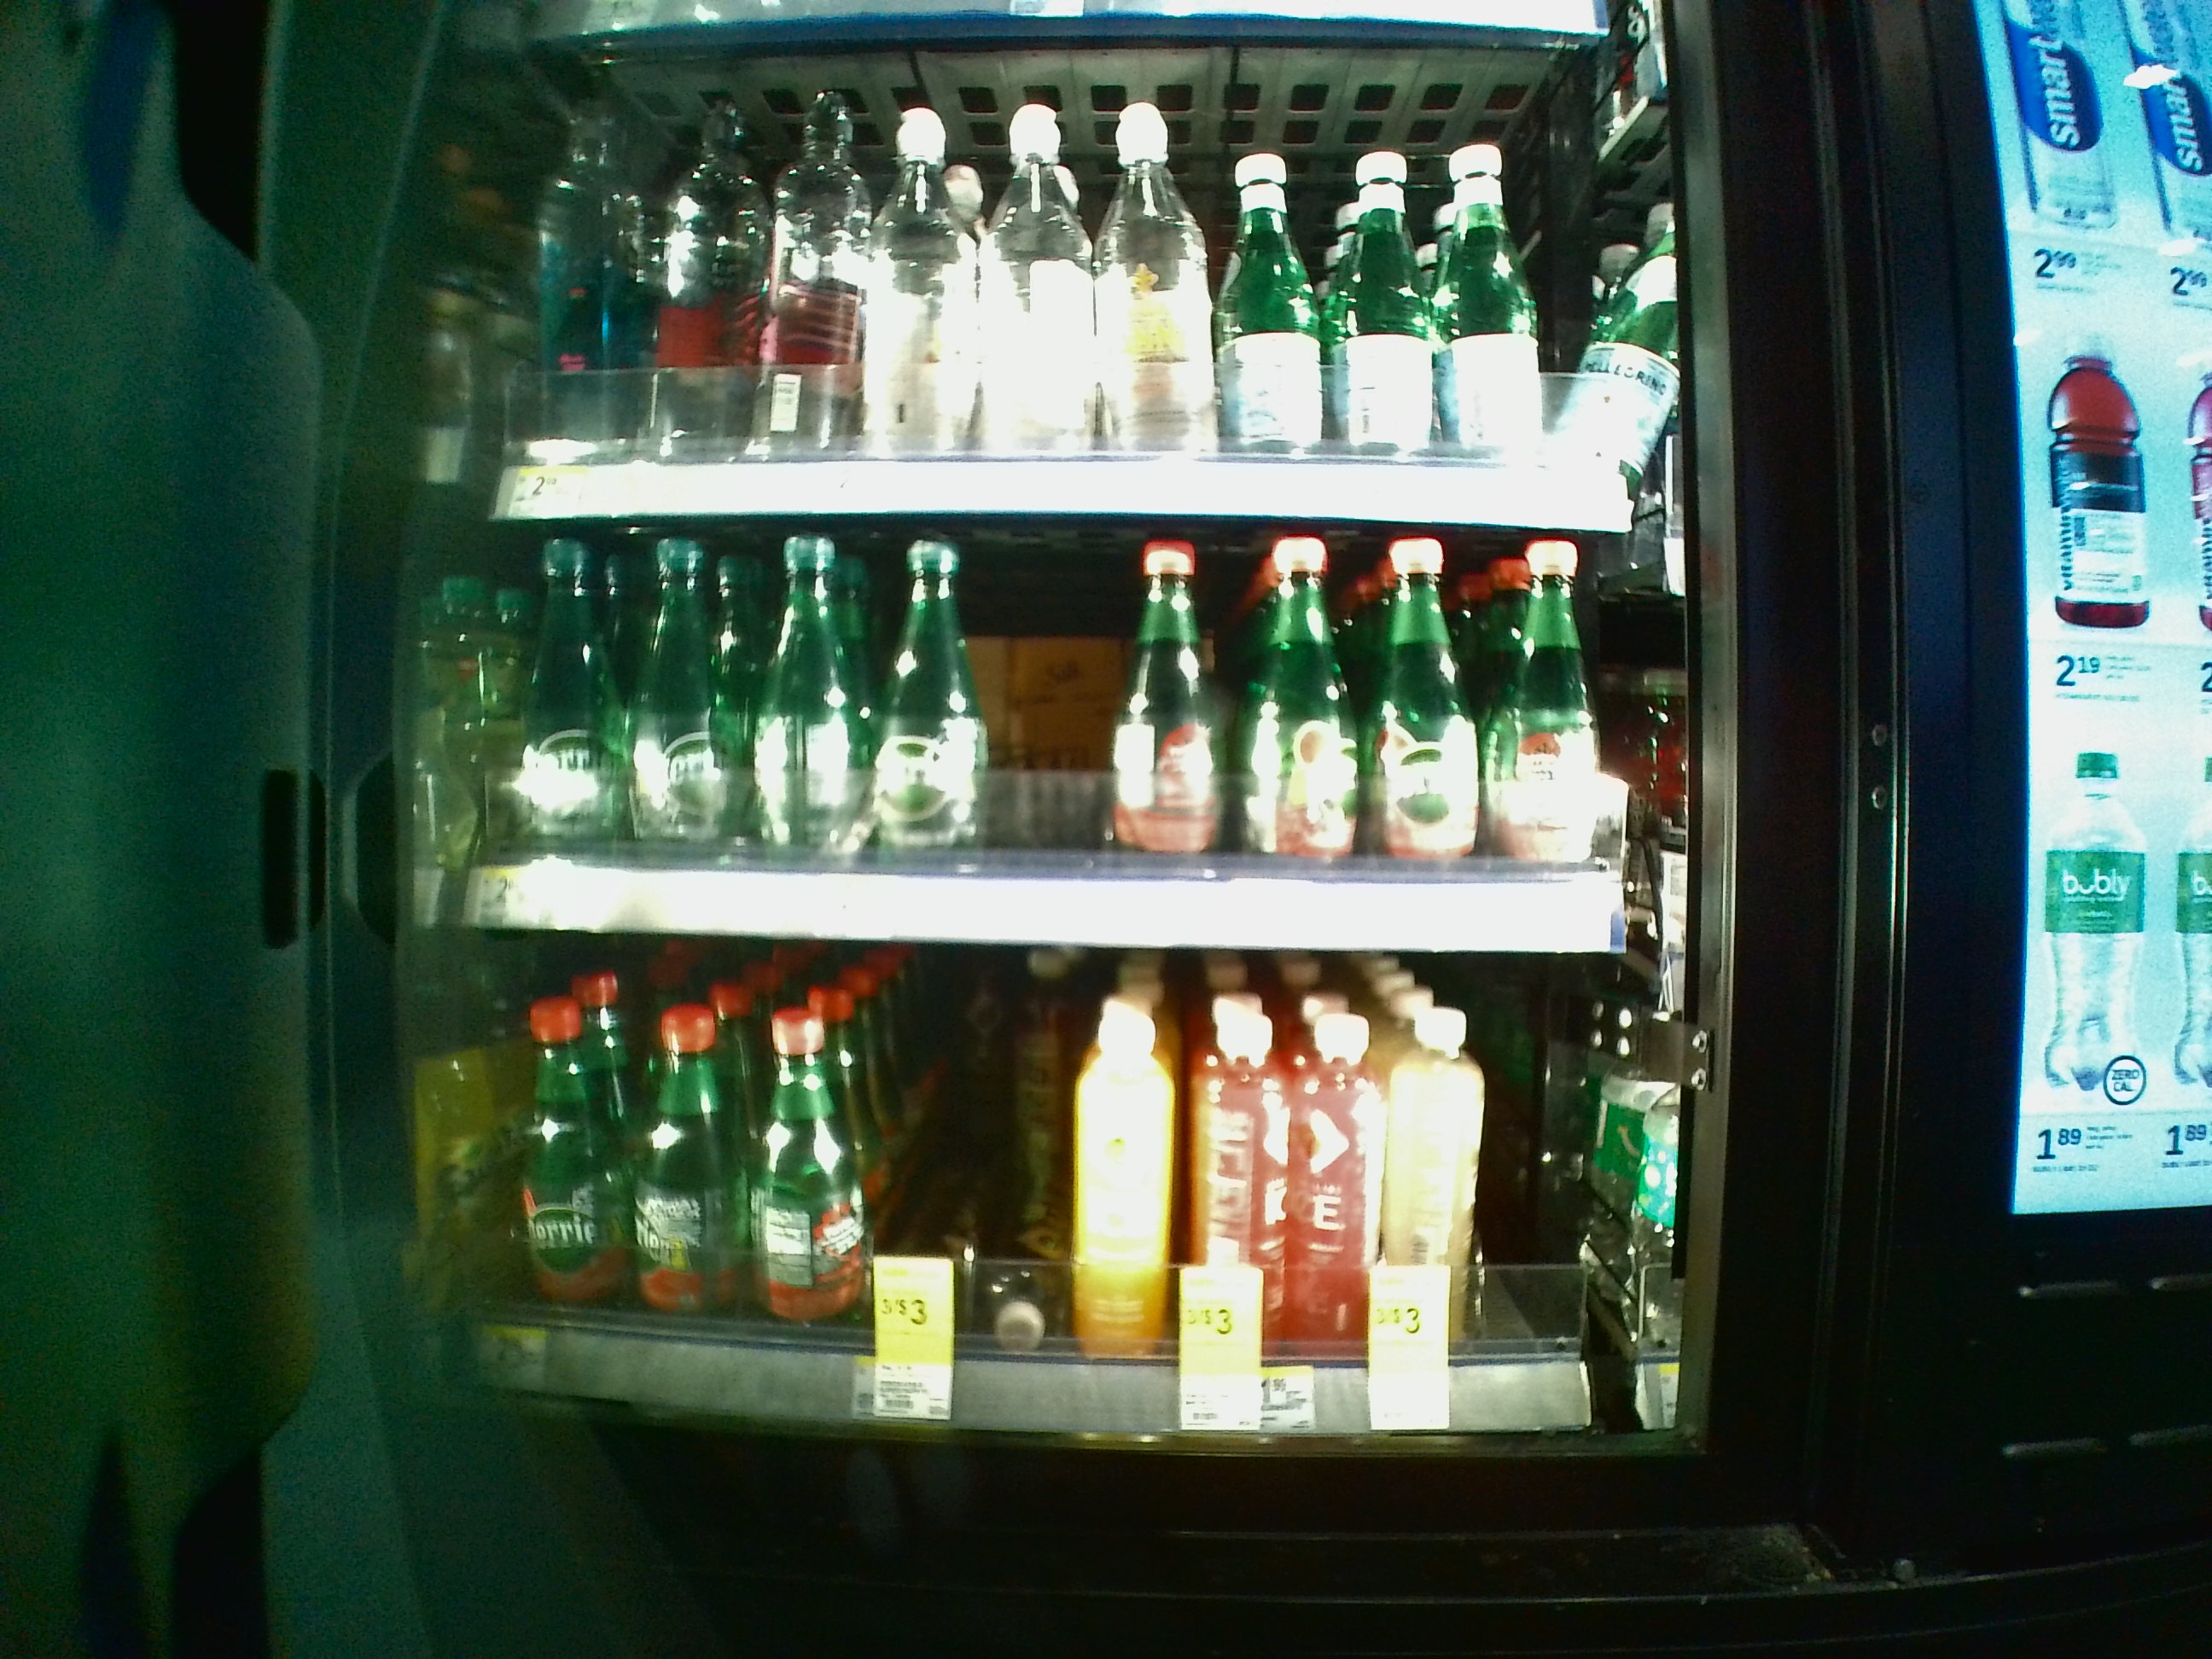shelf: (455, 957, 1686, 1445), (455, 518, 1679, 955)
